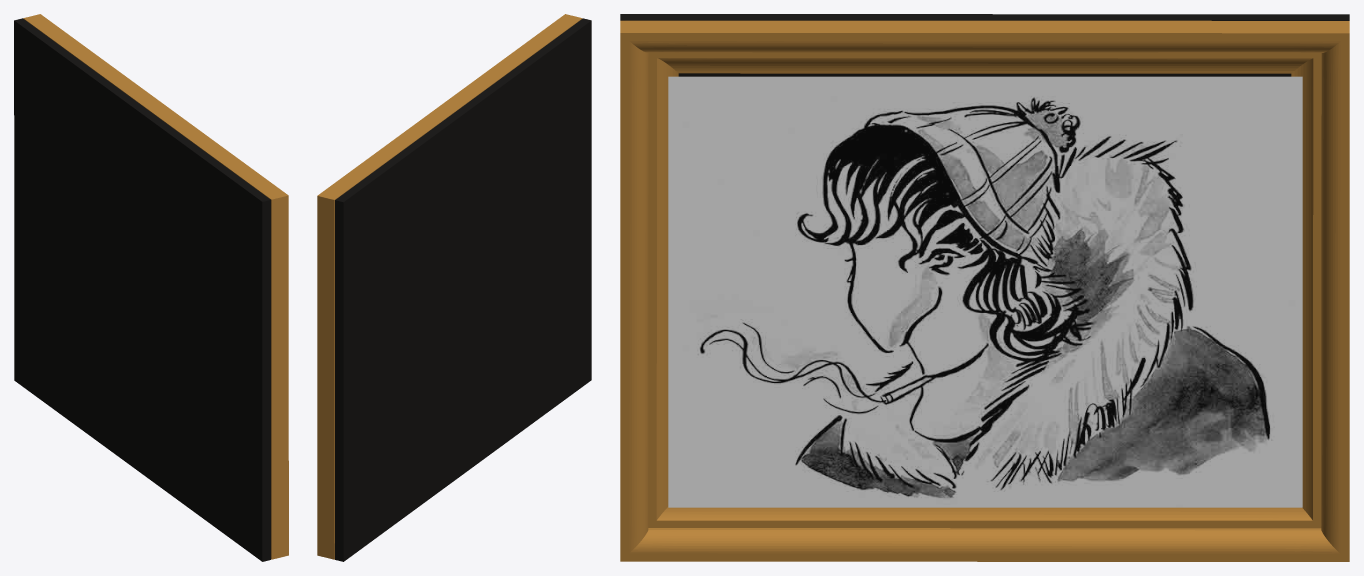
3 renders of one model, left to right at view 1: azimuth 30°, elevation 25°; view 2: azimuth 150°, elevation 25°; view 3: azimuth 270°, elevation 25°, orthographic. The views are drawn at different scales.
Parts seen in each view (by area): view 1: frame.001_3.001, back panel.001_2.001; view 2: frame.001_3.001, back panel.001_2.001; view 3: frame.001_3.001, back panel.001_2.001.
Boxes of the visible parts, x1,y1,x2,y2 form: frame.001_3.001: (14,18,270,561); back panel.001_2.001: (23,14,288,559); frame.001_3.001: (335,18,591,561); back panel.001_2.001: (317,14,582,559); frame.001_3.001: (620,14,1349,507); back panel.001_2.001: (620,20,1349,561).
Size of the model in its own units: 1.05 by 13.7 by 17.12.
3 materials, 1 textured.
